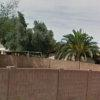Palm tree: (52, 20, 91, 65)
